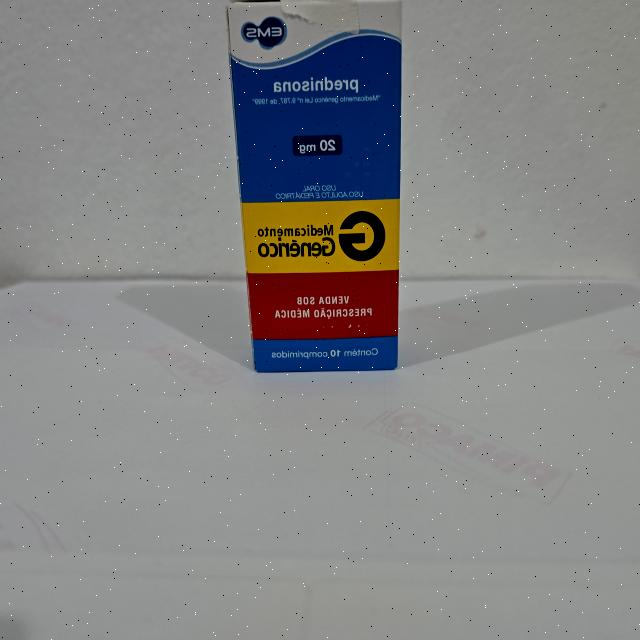prednisona: (223, 0, 406, 379)
